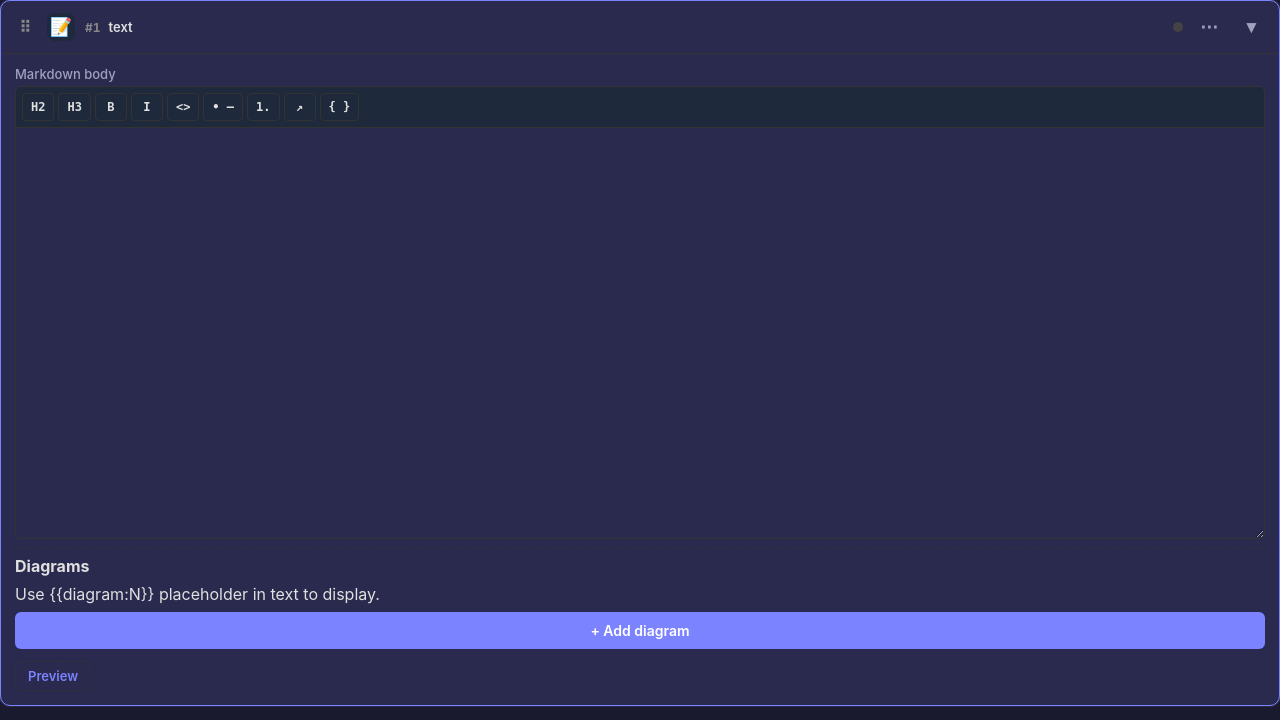
Scenario: <StepCard> › клик по меню → появляется dropdown с duplicate/delete
The image size is (1280, 720).
Click the button with test id "step-card-menu-trigger-s1".
click(1209, 27)  # box x1=1193 y1=11 x2=1225 y2=43
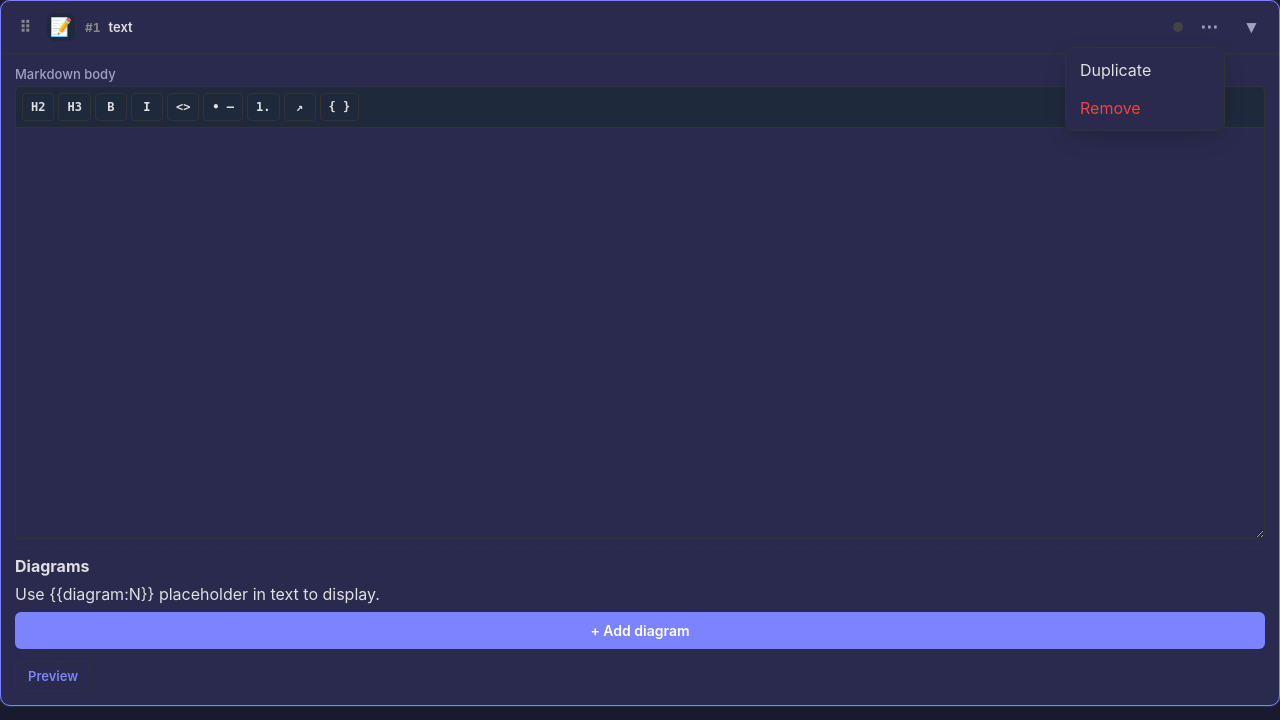
Expected: the menu with test id "step-card-menu-s1" is shown, x1=1065 y1=47 x2=1225 y2=131
Expected: the menu item with test id "step-card-menu-duplicate-s1" is shown, x1=1070 y1=52 x2=1220 y2=88
Expected: the menu item with test id "step-card-menu-delete-s1" is shown, x1=1070 y1=90 x2=1220 y2=126
